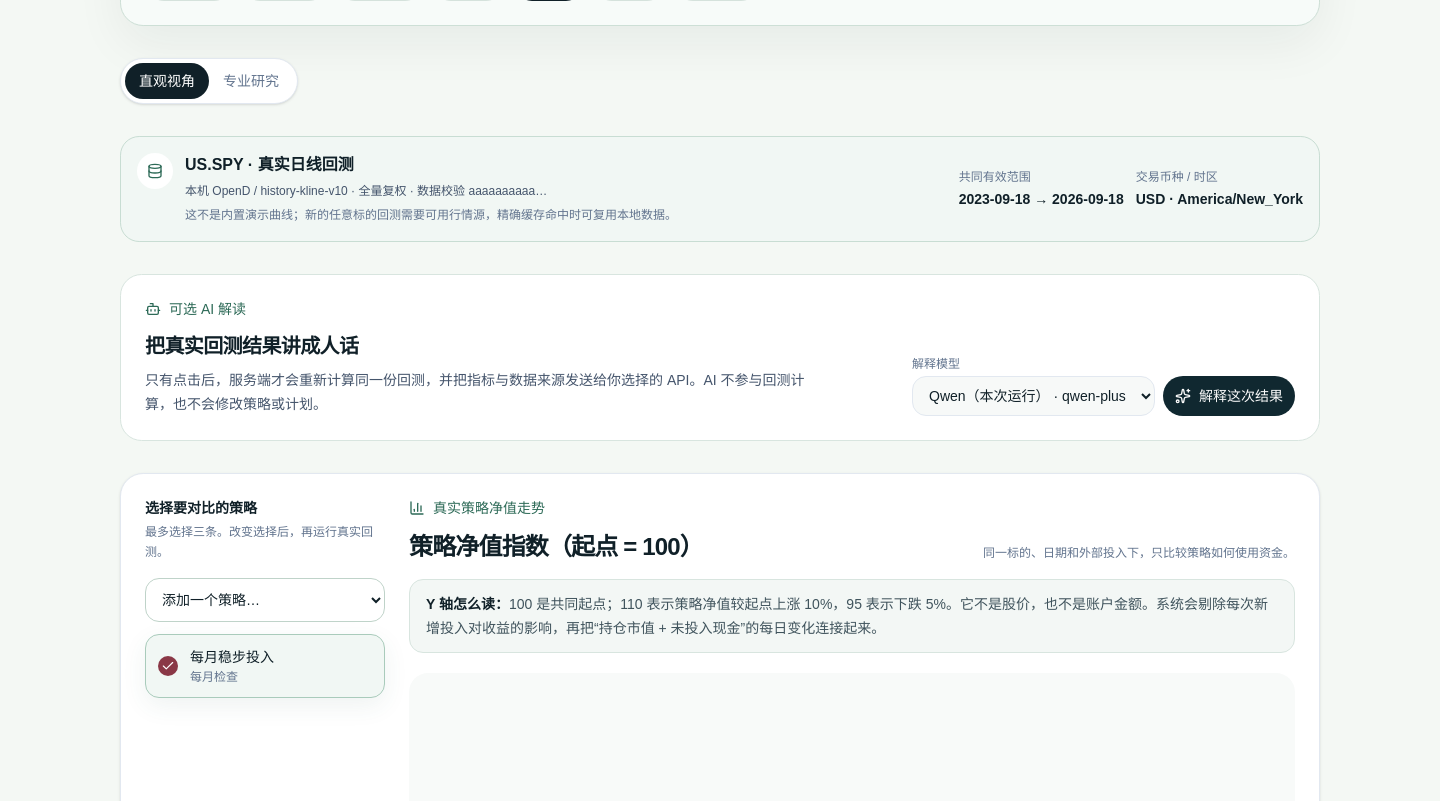
V2.1 consumer shell › turns an unavailable AI explanation into an actionable credential message
(page scrolled)
Click the button "解释这次结果": (1229, 396) [1163, 376, 1295, 416]
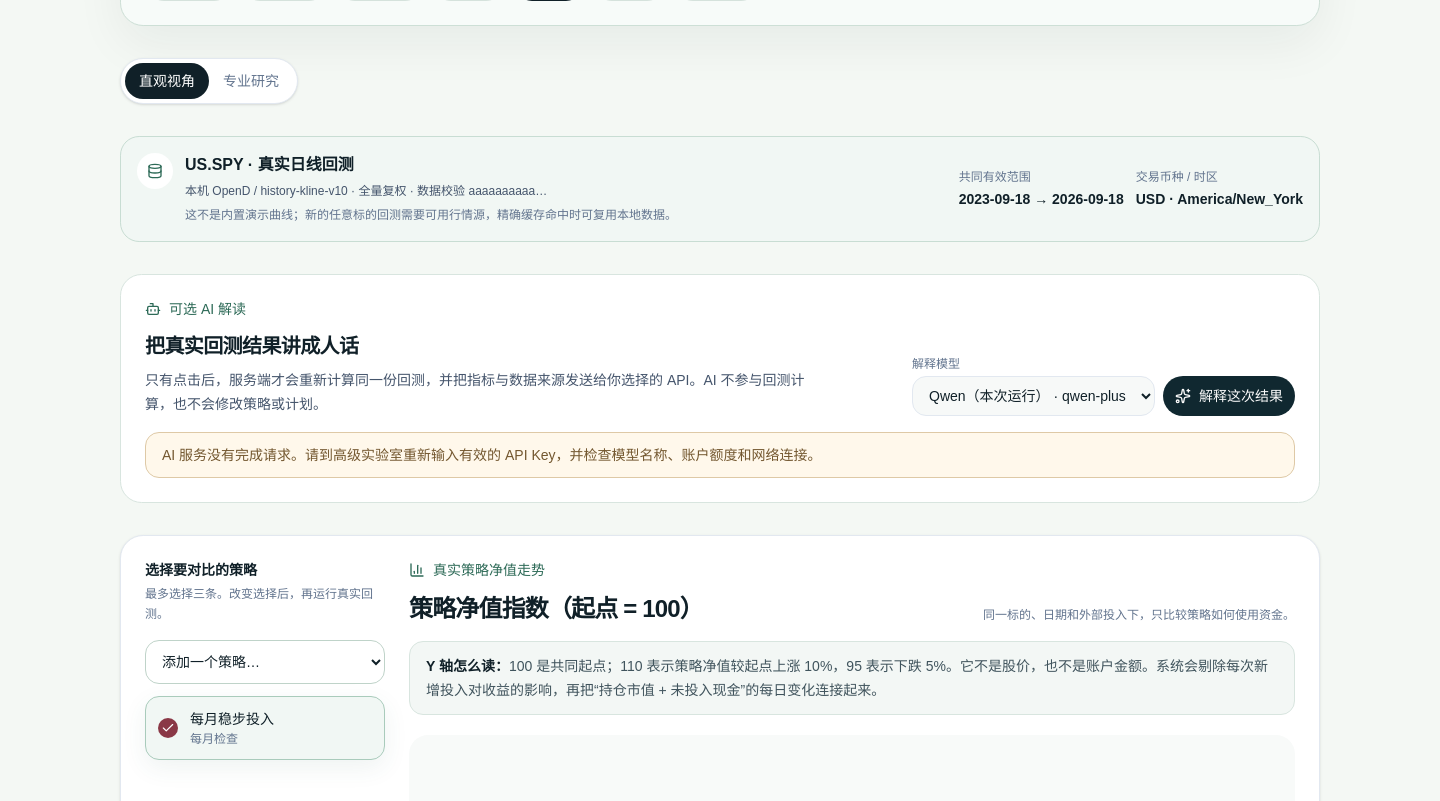
expect the text "AI 服务没有完成请求。请到高级实验室重新输入有效的 API Key，并检查模型名称、账户额度和网络连接。" is shown: met, box [145, 432, 1295, 478]
